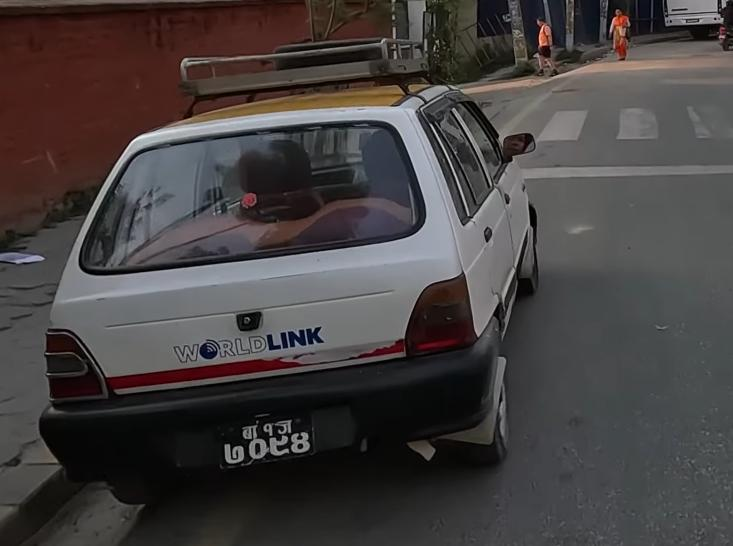taxi: (30, 36, 548, 493)
